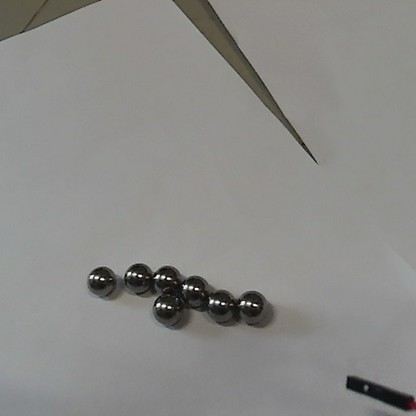ironball: (234, 288, 271, 326), (149, 294, 182, 328), (84, 264, 115, 298), (151, 260, 182, 293), (207, 289, 237, 323), (123, 261, 153, 294), (182, 273, 207, 308)
